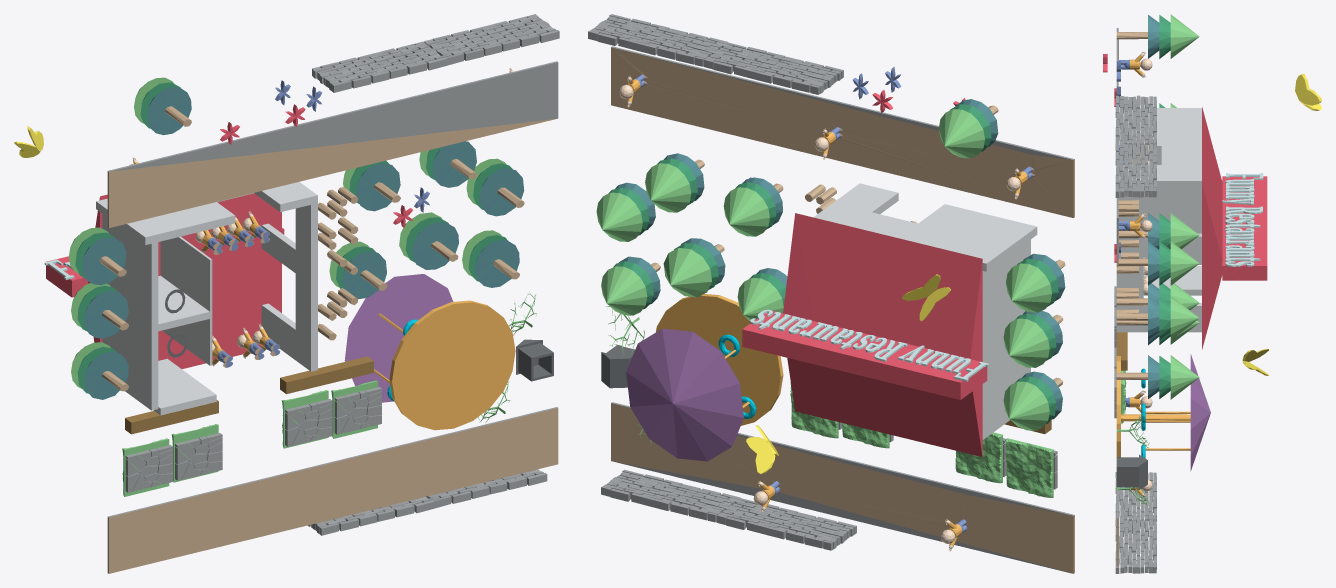
The model's file is asset3.glb.
The picture shows the model from 3 angles, left to right: view 1: azimuth 30°, elevation 25°; view 2: azimuth 150°, elevation 25°; view 3: azimuth 270°, elevation 25°; orthographic projection. The views are drawn at different scales.
Parts seen in each view (by area): view 1: obj_0; view 2: obj_0; view 3: obj_0.
Boxes of the visible parts, left/top/right/bottom form: obj_0: left=14, top=14, right=559, bottom=573; obj_0: left=588, top=14, right=1074, bottom=573; obj_0: left=1103, top=14, right=1321, bottom=573.
Size of the model in its own units: 205 by 199 by 97.28.
